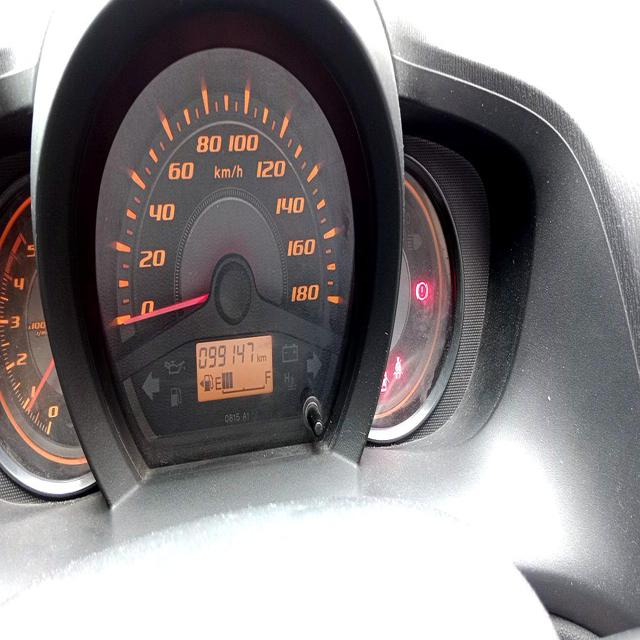odometer: (196, 341, 257, 369)
